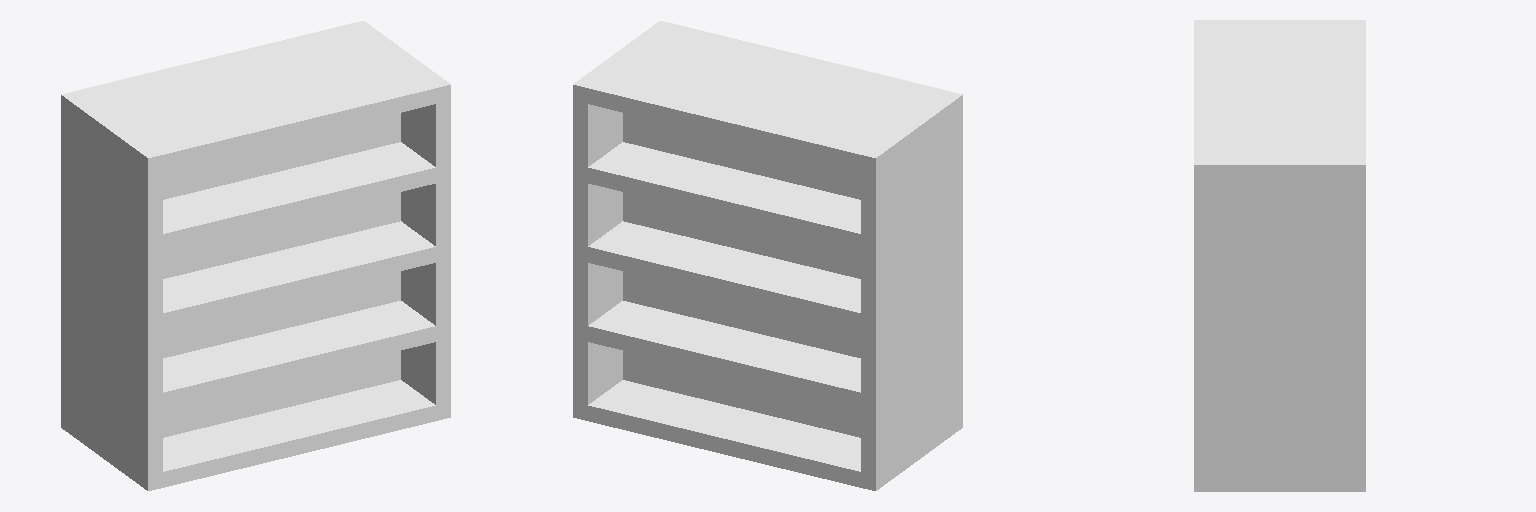
robot.urdf — bookshelf:
<?xml version="1.0" encoding="utf-8"?>
<!-- This URDF was automatically created by SolidWorks to URDF Exporter! Originally created by [author] ([email redacted]) 
     Commit Version: 1.6.0-4-g7f85cfe  Build Version: 1.6.7995.38578
     For more information, please see http://wiki.ros.org/sw_urdf_exporter -->
<robot
  name="bookshelf">
  <link
    name="base_link">
    <inertial>
      <origin
        xyz="-2.09346721861215E-15 1.05 -1.13978651880014E-15"
        rpy="0 0 0" />
      <mass
        value="644.64" />
      <inertia
        ixx="307.598"
        ixy="-3.67154223690493E-14"
        ixz="-5.19766521489549E-14"
        iyy="302.5456"
        iyz="1.01928303760287E-13"
        izz="534.038" />
    </inertial>
    <visual>
      <origin
        xyz="0 0 0"
        rpy="0 0 0" />
      <geometry>
        <mesh
          filename="package://bookshelf/meshes/base_link.STL" />
      </geometry>
      <material
        name="">
        <color
          rgba="1 1 1 1" />
      </material>
    </visual>
    <collision>
      <origin
        xyz="0 0 0"
        rpy="0 0 0" />
      <geometry>
        <mesh
          filename="package://bookshelf/meshes/base_link.STL" />
      </geometry>
    </collision>
  </link>
</robot>

--- Facts derived from the render (not from the file) ---
The picture shows the robot from 3 angles, left to right: view 1: azimuth 30°, elevation 25°; view 2: azimuth 150°, elevation 25°; view 3: azimuth 270°, elevation 25°; orthographic projection.
Model bookshelf with 1 links and 0 joints (none), rooted at base_link, posed every joint at zero.
Visible links, largest first — view 1: base_link; view 2: base_link; view 3: base_link.
Link boxes in pixels (<box>): base_link: <box>61,21,450,490</box>; base_link: <box>573,21,962,490</box>; base_link: <box>1194,20,1365,491</box>.
Bounding box of the posed robot: 2 × 1 × 2.1 m (x, y, z).
Meshes: 1 distinct files referenced, 1 mesh visuals loaded (1 binary STL).